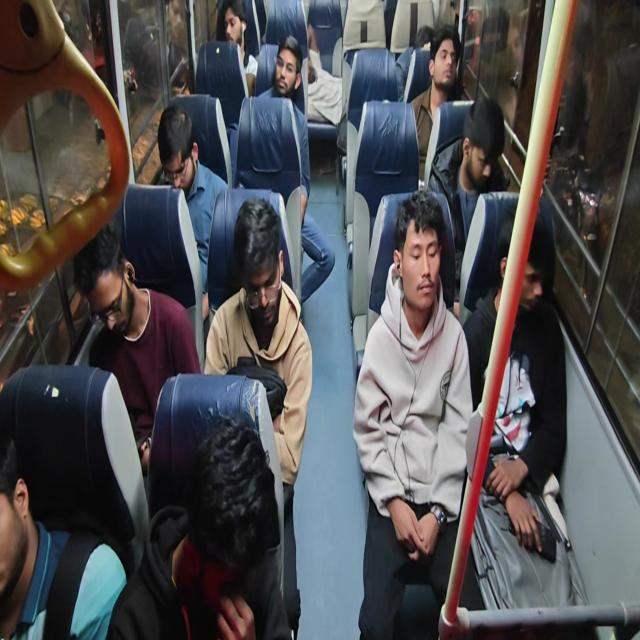person: (162, 402, 301, 640), (53, 231, 160, 427), (0, 420, 77, 634), (495, 185, 550, 366), (383, 204, 446, 358), (264, 34, 326, 151), (222, 212, 288, 320), (160, 111, 215, 228), (454, 81, 500, 215), (314, 30, 362, 153), (434, 40, 458, 88), (220, 5, 245, 50), (414, 8, 444, 41)
